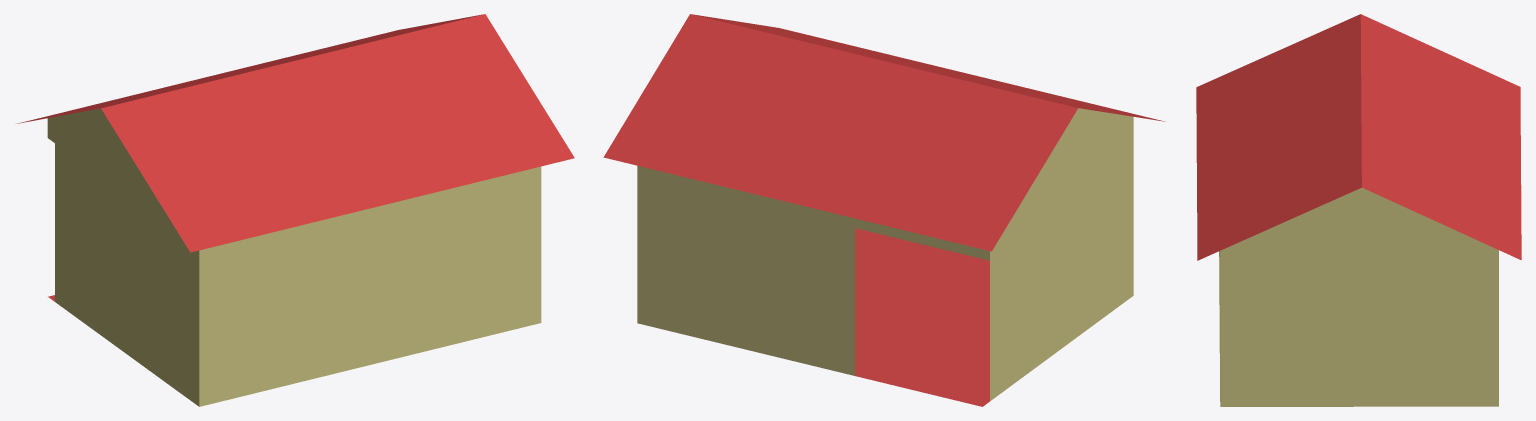
3 views of the same model, side by side, from view 1: azimuth 30°, elevation 25°; view 2: azimuth 150°, elevation 25°; view 3: azimuth 270°, elevation 25° (orthographic). The views are drawn at different scales.
Size of the model in its own units: 13.55 by 10.71 by 8.31.
